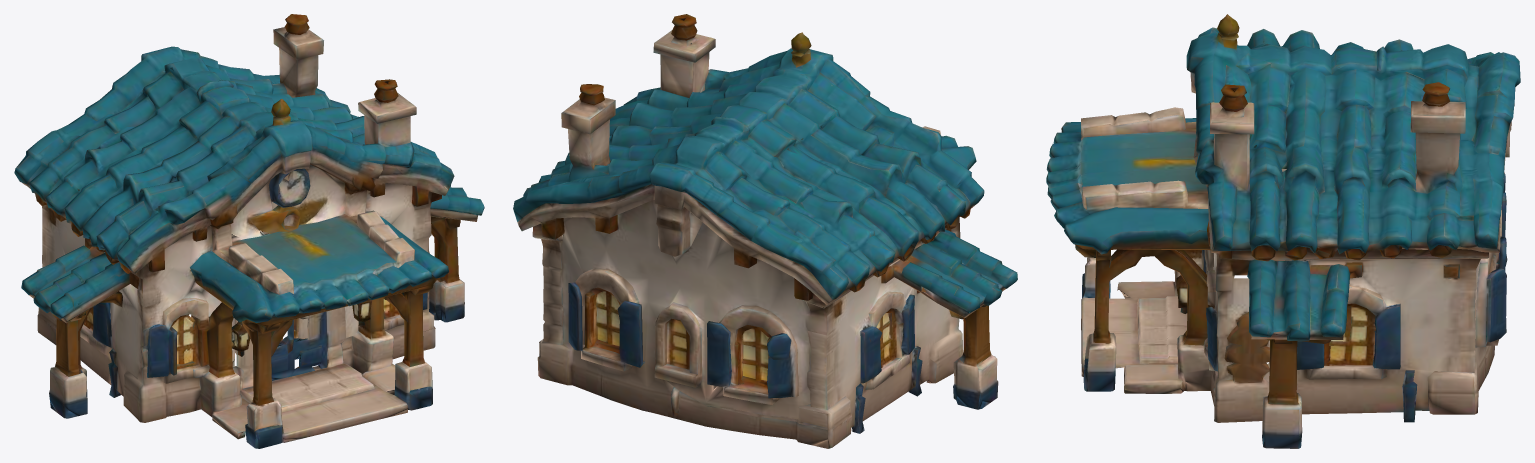
3 renders of one model, left to right at view 1: azimuth 30°, elevation 25°; view 2: azimuth 150°, elevation 25°; view 3: azimuth 270°, elevation 25°, orthographic. The views are drawn at different scales.
Visible parts, largest first — view 1: harbor__rush_station__native_mobile; view 2: harbor__rush_station__native_mobile; view 3: harbor__rush_station__native_mobile.
Part boxes in pixels (x1,y1,x2,y2): harbor__rush_station__native_mobile: [14, 14, 484, 448]; harbor__rush_station__native_mobile: [513, 14, 1017, 448]; harbor__rush_station__native_mobile: [1046, 14, 1520, 448].
Bounding box in the file's own units: 1 × 0.6333 × 0.8269.
1 material, 1 textured.
